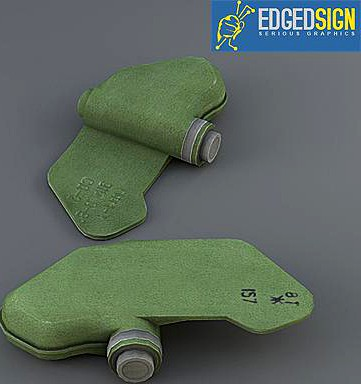butterfly: (3, 242, 328, 384), (45, 51, 234, 241)
